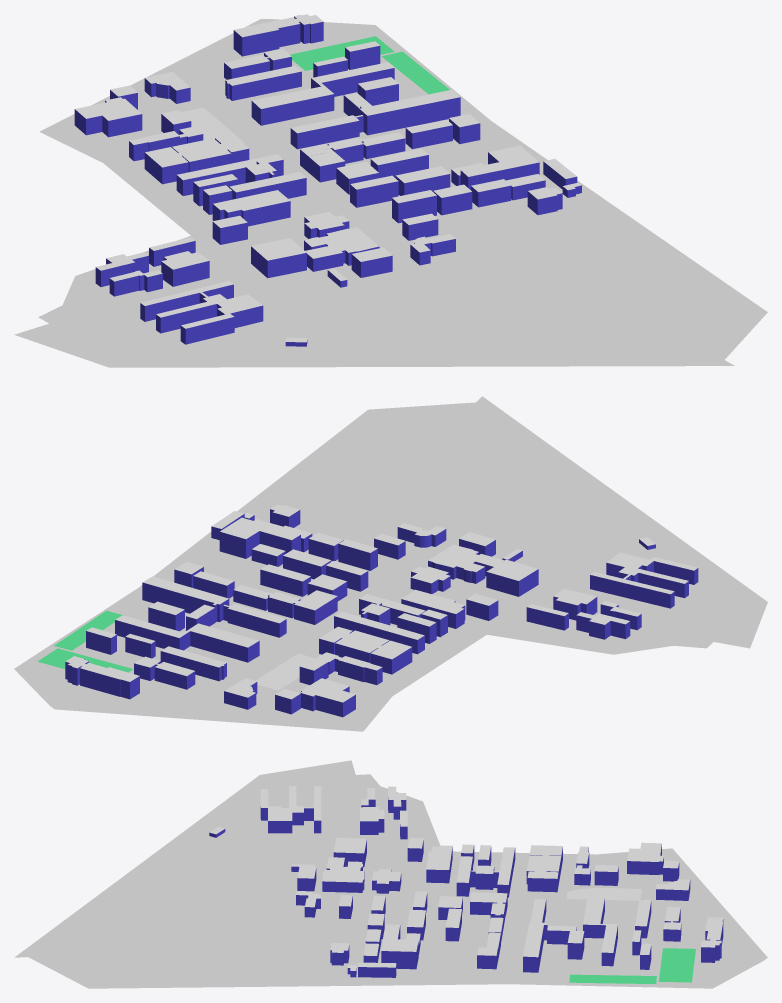
Rendered from saitama_v2.glb.
3 views of the same model, one above another, from view 1: azimuth 30°, elevation 25°; view 2: azimuth 150°, elevation 25°; view 3: azimuth 270°, elevation 25° (orthographic). The views are drawn at different scales.
Parts seen in each view (by area): view 1: 平面, map_2.osm_buildings, 平面.001, 平面.002, map.osm_forest; view 2: 平面, map_2.osm_buildings, map.osm_forest, 平面.002, 平面.001; view 3: 平面, map_2.osm_buildings, 平面.001, map.osm_forest, 平面.002.
Part boxes in pixels (x1,y1,x2,y2): 平面: [14, 19, 767, 367]; map_2.osm_buildings: [74, 14, 581, 346]; 平面.001: [290, 36, 394, 70]; 平面.002: [381, 51, 449, 94]; map.osm_forest: [181, 107, 243, 142]; 平面: [14, 396, 767, 731]; map_2.osm_buildings: [65, 504, 698, 717]; map.osm_forest: [255, 653, 312, 690]; 平面.002: [54, 610, 122, 650]; 平面.001: [37, 648, 133, 672]; 平面: [14, 760, 767, 988]; map_2.osm_buildings: [209, 786, 723, 977]; 平面.001: [659, 948, 695, 982]; map.osm_forest: [566, 888, 641, 900]; 平面.002: [569, 974, 656, 984].
Bounding box in the file's own units: 623 × 26.22 × 870.
